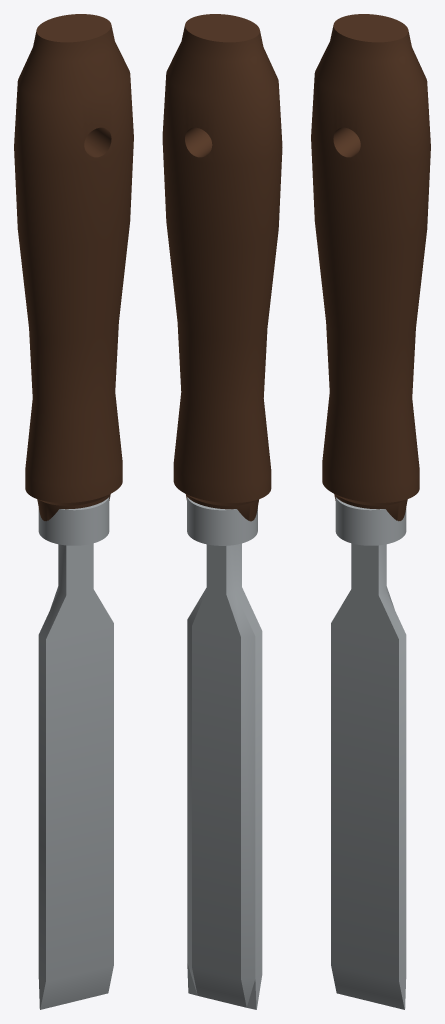
The picture shows the model from 3 angles, left to right: view 1: azimuth 30°, elevation 25°; view 2: azimuth 150°, elevation 25°; view 3: azimuth 330°, elevation 25°; orthographic projection.
Parts seen in each view (by area): view 1: Brown handle, Continuous blade cutting bevel tang, Steel ferrule around handle entry; view 2: Brown handle, Continuous blade cutting bevel tang, Steel ferrule around handle entry; view 3: Brown handle, Continuous blade cutting bevel tang, Steel ferrule around handle entry.
Boxes of the visible parts, x1=… form: Brown handle: x1=14, y1=14, x2=133, y2=521; Continuous blade cutting bevel tang: x1=38, y1=543, x2=113, y2=1009; Steel ferrule around handle entry: x1=38, y1=497, x2=109, y2=545; Brown handle: x1=162, y1=14, x2=282, y2=521; Continuous blade cutting bevel tang: x1=187, y1=543, x2=262, y2=1009; Steel ferrule around handle entry: x1=187, y1=497, x2=257, y2=545; Brown handle: x1=311, y1=14, x2=430, y2=521; Continuous blade cutting bevel tang: x1=331, y1=543, x2=406, y2=1009; Steel ferrule around handle entry: x1=335, y1=497, x2=406, y2=545.
Size of the model in its own units: 0.032 by 0.273 by 0.0256.
